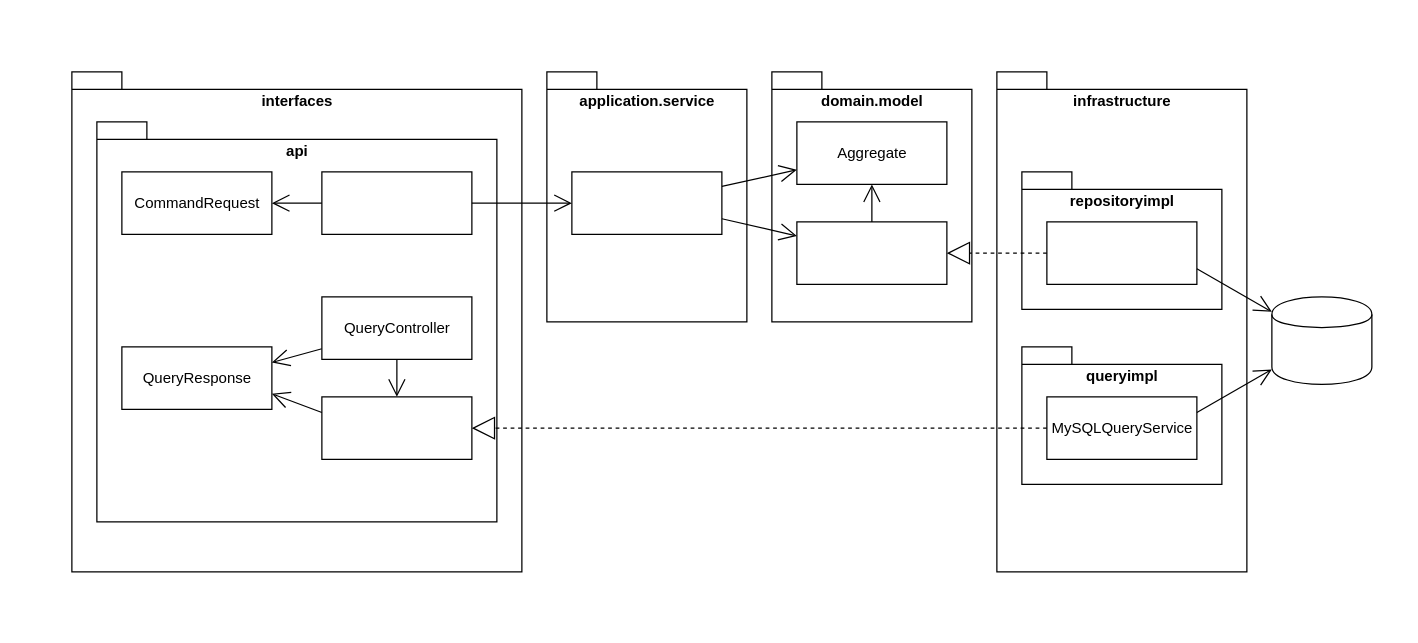
This 1418x643 diagram has some shape labels left out. The shapes that lost their labels are listed below. From the top down, each one's centre as x and y in pixels, then its label:
(x=396, y=202): CommandController
(x=646, y=202): ApplicationService
(x=871, y=252): << interface >> Repository
(x=1121, y=252): MySQLRepository
(x=1321, y=340): MySQL
(x=396, y=427): << interface >> QueryService
